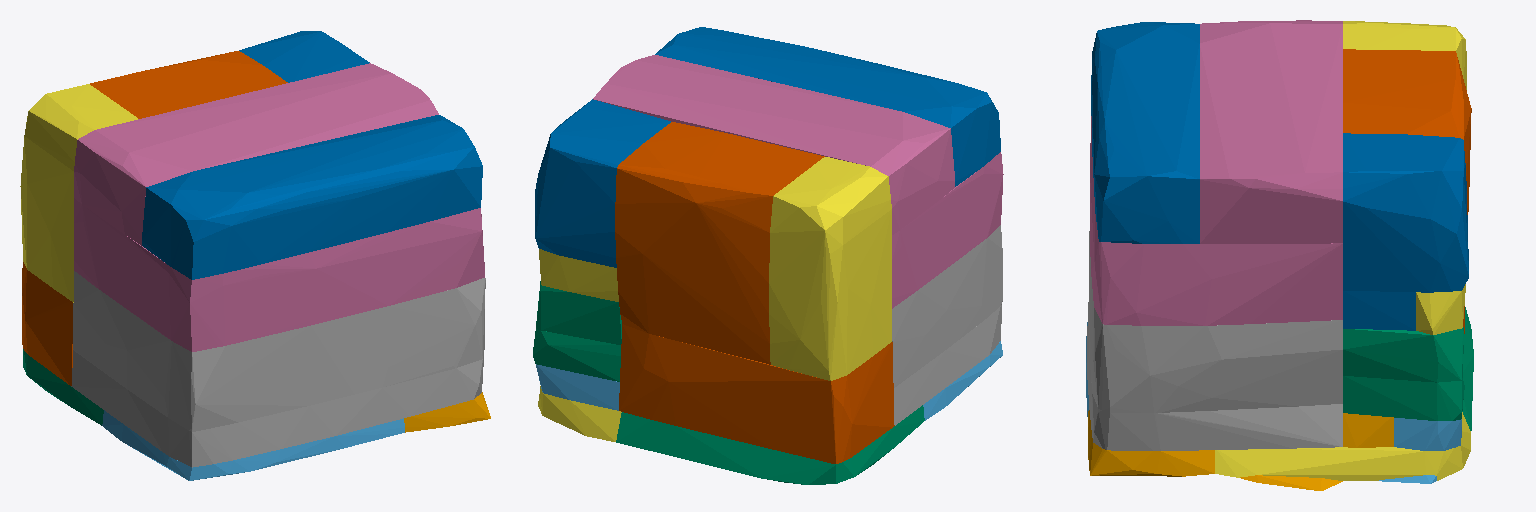
robot.urdf — root:
<?xml version='1.0' encoding='UTF-8'?>
<robot name="root">
  <link name="link_convex_piece_000.obj">
    <inertial>
      <origin xyz="0 0 0" rpy="0 0 0"/>
    </inertial>
    <visual>
      <origin xyz="0 0 0" rpy="0 0 0"/>
      <geometry>
        <mesh filename="meshes/convex_piece_000.obj" scale="1.0 1.0 1.0"/>
      </geometry>
    </visual>
    <collision>
      <origin xyz="0 0 0" rpy="0 0 0"/>
      <geometry>
        <mesh filename="meshes/convex_piece_000.obj" scale="1.0 1.0 1.0"/>
      </geometry>
    </collision>
  </link>
  <link name="link_convex_piece_001.obj">
    <inertial>
      <origin xyz="0 0 0" rpy="0 0 0"/>
    </inertial>
    <visual>
      <origin xyz="0 0 0" rpy="0 0 0"/>
      <geometry>
        <mesh filename="meshes/convex_piece_001.obj" scale="1.0 1.0 1.0"/>
      </geometry>
    </visual>
    <collision>
      <origin xyz="0 0 0" rpy="0 0 0"/>
      <geometry>
        <mesh filename="meshes/convex_piece_001.obj" scale="1.0 1.0 1.0"/>
      </geometry>
    </collision>
  </link>
  <link name="link_convex_piece_002.obj">
    <inertial>
      <origin xyz="0 0 0" rpy="0 0 0"/>
    </inertial>
    <visual>
      <origin xyz="0 0 0" rpy="0 0 0"/>
      <geometry>
        <mesh filename="meshes/convex_piece_002.obj" scale="1.0 1.0 1.0"/>
      </geometry>
    </visual>
    <collision>
      <origin xyz="0 0 0" rpy="0 0 0"/>
      <geometry>
        <mesh filename="meshes/convex_piece_002.obj" scale="1.0 1.0 1.0"/>
      </geometry>
    </collision>
  </link>
  <link name="link_convex_piece_003.obj">
    <inertial>
      <origin xyz="0 0 0" rpy="0 0 0"/>
    </inertial>
    <visual>
      <origin xyz="0 0 0" rpy="0 0 0"/>
      <geometry>
        <mesh filename="meshes/convex_piece_003.obj" scale="1.0 1.0 1.0"/>
      </geometry>
    </visual>
    <collision>
      <origin xyz="0 0 0" rpy="0 0 0"/>
      <geometry>
        <mesh filename="meshes/convex_piece_003.obj" scale="1.0 1.0 1.0"/>
      </geometry>
    </collision>
  </link>
  <link name="link_convex_piece_004.obj">
    <inertial>
      <origin xyz="0 0 0" rpy="0 0 0"/>
    </inertial>
    <visual>
      <origin xyz="0 0 0" rpy="0 0 0"/>
      <geometry>
        <mesh filename="meshes/convex_piece_004.obj" scale="1.0 1.0 1.0"/>
      </geometry>
    </visual>
    <collision>
      <origin xyz="0 0 0" rpy="0 0 0"/>
      <geometry>
        <mesh filename="meshes/convex_piece_004.obj" scale="1.0 1.0 1.0"/>
      </geometry>
    </collision>
  </link>
  <link name="link_convex_piece_005.obj">
    <inertial>
      <origin xyz="0 0 0" rpy="0 0 0"/>
    </inertial>
    <visual>
      <origin xyz="0 0 0" rpy="0 0 0"/>
      <geometry>
        <mesh filename="meshes/convex_piece_005.obj" scale="1.0 1.0 1.0"/>
      </geometry>
    </visual>
    <collision>
      <origin xyz="0 0 0" rpy="0 0 0"/>
      <geometry>
        <mesh filename="meshes/convex_piece_005.obj" scale="1.0 1.0 1.0"/>
      </geometry>
    </collision>
  </link>
  <link name="link_convex_piece_006.obj">
    <inertial>
      <origin xyz="0 0 0" rpy="0 0 0"/>
    </inertial>
    <visual>
      <origin xyz="0 0 0" rpy="0 0 0"/>
      <geometry>
        <mesh filename="meshes/convex_piece_006.obj" scale="1.0 1.0 1.0"/>
      </geometry>
    </visual>
    <collision>
      <origin xyz="0 0 0" rpy="0 0 0"/>
      <geometry>
        <mesh filename="meshes/convex_piece_006.obj" scale="1.0 1.0 1.0"/>
      </geometry>
    </collision>
  </link>
  <link name="link_convex_piece_007.obj">
    <inertial>
      <origin xyz="0 0 0" rpy="0 0 0"/>
    </inertial>
    <visual>
      <origin xyz="0 0 0" rpy="0 0 0"/>
      <geometry>
        <mesh filename="meshes/convex_piece_007.obj" scale="1.0 1.0 1.0"/>
      </geometry>
    </visual>
    <collision>
      <origin xyz="0 0 0" rpy="0 0 0"/>
      <geometry>
        <mesh filename="meshes/convex_piece_007.obj" scale="1.0 1.0 1.0"/>
      </geometry>
    </collision>
  </link>
  <link name="link_convex_piece_008.obj">
    <inertial>
      <origin xyz="0 0 0" rpy="0 0 0"/>
    </inertial>
    <visual>
      <origin xyz="0 0 0" rpy="0 0 0"/>
      <geometry>
        <mesh filename="meshes/convex_piece_008.obj" scale="1.0 1.0 1.0"/>
      </geometry>
    </visual>
    <collision>
      <origin xyz="0 0 0" rpy="0 0 0"/>
      <geometry>
        <mesh filename="meshes/convex_piece_008.obj" scale="1.0 1.0 1.0"/>
      </geometry>
    </collision>
  </link>
  <link name="link_convex_piece_009.obj">
    <inertial>
      <origin xyz="0 0 0" rpy="0 0 0"/>
    </inertial>
    <visual>
      <origin xyz="0 0 0" rpy="0 0 0"/>
      <geometry>
        <mesh filename="meshes/convex_piece_009.obj" scale="1.0 1.0 1.0"/>
      </geometry>
    </visual>
    <collision>
      <origin xyz="0 0 0" rpy="0 0 0"/>
      <geometry>
        <mesh filename="meshes/convex_piece_009.obj" scale="1.0 1.0 1.0"/>
      </geometry>
    </collision>
  </link>
  <link name="link_convex_piece_010.obj">
    <inertial>
      <origin xyz="0 0 0" rpy="0 0 0"/>
    </inertial>
    <visual>
      <origin xyz="0 0 0" rpy="0 0 0"/>
      <geometry>
        <mesh filename="meshes/convex_piece_010.obj" scale="1.0 1.0 1.0"/>
      </geometry>
    </visual>
    <collision>
      <origin xyz="0 0 0" rpy="0 0 0"/>
      <geometry>
        <mesh filename="meshes/convex_piece_010.obj" scale="1.0 1.0 1.0"/>
      </geometry>
    </collision>
  </link>
  <link name="link_convex_piece_011.obj">
    <inertial>
      <origin xyz="0 0 0" rpy="0 0 0"/>
    </inertial>
    <visual>
      <origin xyz="0 0 0" rpy="0 0 0"/>
      <geometry>
        <mesh filename="meshes/convex_piece_011.obj" scale="1.0 1.0 1.0"/>
      </geometry>
    </visual>
    <collision>
      <origin xyz="0 0 0" rpy="0 0 0"/>
      <geometry>
        <mesh filename="meshes/convex_piece_011.obj" scale="1.0 1.0 1.0"/>
      </geometry>
    </collision>
  </link>
  <link name="link_convex_piece_012.obj">
    <inertial>
      <origin xyz="0 0 0" rpy="0 0 0"/>
    </inertial>
    <visual>
      <origin xyz="0 0 0" rpy="0 0 0"/>
      <geometry>
        <mesh filename="meshes/convex_piece_012.obj" scale="1.0 1.0 1.0"/>
      </geometry>
    </visual>
    <collision>
      <origin xyz="0 0 0" rpy="0 0 0"/>
      <geometry>
        <mesh filename="meshes/convex_piece_012.obj" scale="1.0 1.0 1.0"/>
      </geometry>
    </collision>
  </link>
  <link name="link_convex_piece_013.obj">
    <inertial>
      <origin xyz="0 0 0" rpy="0 0 0"/>
    </inertial>
    <visual>
      <origin xyz="0 0 0" rpy="0 0 0"/>
      <geometry>
        <mesh filename="meshes/convex_piece_013.obj" scale="1.0 1.0 1.0"/>
      </geometry>
    </visual>
    <collision>
      <origin xyz="0 0 0" rpy="0 0 0"/>
      <geometry>
        <mesh filename="meshes/convex_piece_013.obj" scale="1.0 1.0 1.0"/>
      </geometry>
    </collision>
  </link>
  <link name="link_convex_piece_014.obj">
    <inertial>
      <origin xyz="0 0 0" rpy="0 0 0"/>
    </inertial>
    <visual>
      <origin xyz="0 0 0" rpy="0 0 0"/>
      <geometry>
        <mesh filename="meshes/convex_piece_014.obj" scale="1.0 1.0 1.0"/>
      </geometry>
    </visual>
    <collision>
      <origin xyz="0 0 0" rpy="0 0 0"/>
      <geometry>
        <mesh filename="meshes/convex_piece_014.obj" scale="1.0 1.0 1.0"/>
      </geometry>
    </collision>
  </link>
  <link name="link_convex_piece_015.obj">
    <inertial>
      <origin xyz="0 0 0" rpy="0 0 0"/>
    </inertial>
    <visual>
      <origin xyz="0 0 0" rpy="0 0 0"/>
      <geometry>
        <mesh filename="meshes/convex_piece_015.obj" scale="1.0 1.0 1.0"/>
      </geometry>
    </visual>
    <collision>
      <origin xyz="0 0 0" rpy="0 0 0"/>
      <geometry>
        <mesh filename="meshes/convex_piece_015.obj" scale="1.0 1.0 1.0"/>
      </geometry>
    </collision>
  </link>
  <link name="link_convex_piece_016.obj">
    <inertial>
      <origin xyz="0 0 0" rpy="0 0 0"/>
    </inertial>
    <visual>
      <origin xyz="0 0 0" rpy="0 0 0"/>
      <geometry>
        <mesh filename="meshes/convex_piece_016.obj" scale="1.0 1.0 1.0"/>
      </geometry>
    </visual>
    <collision>
      <origin xyz="0 0 0" rpy="0 0 0"/>
      <geometry>
        <mesh filename="meshes/convex_piece_016.obj" scale="1.0 1.0 1.0"/>
      </geometry>
    </collision>
  </link>
  <link name="link_convex_piece_017.obj">
    <inertial>
      <origin xyz="0 0 0" rpy="0 0 0"/>
    </inertial>
    <visual>
      <origin xyz="0 0 0" rpy="0 0 0"/>
      <geometry>
        <mesh filename="meshes/convex_piece_017.obj" scale="1.0 1.0 1.0"/>
      </geometry>
    </visual>
    <collision>
      <origin xyz="0 0 0" rpy="0 0 0"/>
      <geometry>
        <mesh filename="meshes/convex_piece_017.obj" scale="1.0 1.0 1.0"/>
      </geometry>
    </collision>
  </link>
  <link name="link_convex_piece_018.obj">
    <inertial>
      <origin xyz="0 0 0" rpy="0 0 0"/>
    </inertial>
    <visual>
      <origin xyz="0 0 0" rpy="0 0 0"/>
      <geometry>
        <mesh filename="meshes/convex_piece_018.obj" scale="1.0 1.0 1.0"/>
      </geometry>
    </visual>
    <collision>
      <origin xyz="0 0 0" rpy="0 0 0"/>
      <geometry>
        <mesh filename="meshes/convex_piece_018.obj" scale="1.0 1.0 1.0"/>
      </geometry>
    </collision>
  </link>
  <link name="link_convex_piece_019.obj">
    <inertial>
      <origin xyz="0 0 0" rpy="0 0 0"/>
    </inertial>
    <visual>
      <origin xyz="0 0 0" rpy="0 0 0"/>
      <geometry>
        <mesh filename="meshes/convex_piece_019.obj" scale="1.0 1.0 1.0"/>
      </geometry>
    </visual>
    <collision>
      <origin xyz="0 0 0" rpy="0 0 0"/>
      <geometry>
        <mesh filename="meshes/convex_piece_019.obj" scale="1.0 1.0 1.0"/>
      </geometry>
    </collision>
  </link>
  <link name="link_convex_piece_020.obj">
    <inertial>
      <origin xyz="0 0 0" rpy="0 0 0"/>
    </inertial>
    <visual>
      <origin xyz="0 0 0" rpy="0 0 0"/>
      <geometry>
        <mesh filename="meshes/convex_piece_020.obj" scale="1.0 1.0 1.0"/>
      </geometry>
    </visual>
    <collision>
      <origin xyz="0 0 0" rpy="0 0 0"/>
      <geometry>
        <mesh filename="meshes/convex_piece_020.obj" scale="1.0 1.0 1.0"/>
      </geometry>
    </collision>
  </link>
  <joint name="link_convex_piece_001.obj_joint" type="fixed">
    <origin xyz="0 0 0" rpy="0 0 0"/>
    <parent link="link_convex_piece_000.obj"/>
    <child link="link_convex_piece_001.obj"/>
  </joint>
  <joint name="link_convex_piece_002.obj_joint" type="fixed">
    <origin xyz="0 0 0" rpy="0 0 0"/>
    <parent link="link_convex_piece_000.obj"/>
    <child link="link_convex_piece_002.obj"/>
  </joint>
  <joint name="link_convex_piece_003.obj_joint" type="fixed">
    <origin xyz="0 0 0" rpy="0 0 0"/>
    <parent link="link_convex_piece_000.obj"/>
    <child link="link_convex_piece_003.obj"/>
  </joint>
  <joint name="link_convex_piece_004.obj_joint" type="fixed">
    <origin xyz="0 0 0" rpy="0 0 0"/>
    <parent link="link_convex_piece_000.obj"/>
    <child link="link_convex_piece_004.obj"/>
  </joint>
  <joint name="link_convex_piece_005.obj_joint" type="fixed">
    <origin xyz="0 0 0" rpy="0 0 0"/>
    <parent link="link_convex_piece_000.obj"/>
    <child link="link_convex_piece_005.obj"/>
  </joint>
  <joint name="link_convex_piece_006.obj_joint" type="fixed">
    <origin xyz="0 0 0" rpy="0 0 0"/>
    <parent link="link_convex_piece_000.obj"/>
    <child link="link_convex_piece_006.obj"/>
  </joint>
  <joint name="link_convex_piece_007.obj_joint" type="fixed">
    <origin xyz="0 0 0" rpy="0 0 0"/>
    <parent link="link_convex_piece_000.obj"/>
    <child link="link_convex_piece_007.obj"/>
  </joint>
  <joint name="link_convex_piece_008.obj_joint" type="fixed">
    <origin xyz="0 0 0" rpy="0 0 0"/>
    <parent link="link_convex_piece_000.obj"/>
    <child link="link_convex_piece_008.obj"/>
  </joint>
  <joint name="link_convex_piece_009.obj_joint" type="fixed">
    <origin xyz="0 0 0" rpy="0 0 0"/>
    <parent link="link_convex_piece_000.obj"/>
    <child link="link_convex_piece_009.obj"/>
  </joint>
  <joint name="link_convex_piece_010.obj_joint" type="fixed">
    <origin xyz="0 0 0" rpy="0 0 0"/>
    <parent link="link_convex_piece_000.obj"/>
    <child link="link_convex_piece_010.obj"/>
  </joint>
  <joint name="link_convex_piece_011.obj_joint" type="fixed">
    <origin xyz="0 0 0" rpy="0 0 0"/>
    <parent link="link_convex_piece_000.obj"/>
    <child link="link_convex_piece_011.obj"/>
  </joint>
  <joint name="link_convex_piece_012.obj_joint" type="fixed">
    <origin xyz="0 0 0" rpy="0 0 0"/>
    <parent link="link_convex_piece_000.obj"/>
    <child link="link_convex_piece_012.obj"/>
  </joint>
  <joint name="link_convex_piece_013.obj_joint" type="fixed">
    <origin xyz="0 0 0" rpy="0 0 0"/>
    <parent link="link_convex_piece_000.obj"/>
    <child link="link_convex_piece_013.obj"/>
  </joint>
  <joint name="link_convex_piece_014.obj_joint" type="fixed">
    <origin xyz="0 0 0" rpy="0 0 0"/>
    <parent link="link_convex_piece_000.obj"/>
    <child link="link_convex_piece_014.obj"/>
  </joint>
  <joint name="link_convex_piece_015.obj_joint" type="fixed">
    <origin xyz="0 0 0" rpy="0 0 0"/>
    <parent link="link_convex_piece_000.obj"/>
    <child link="link_convex_piece_015.obj"/>
  </joint>
  <joint name="link_convex_piece_016.obj_joint" type="fixed">
    <origin xyz="0 0 0" rpy="0 0 0"/>
    <parent link="link_convex_piece_000.obj"/>
    <child link="link_convex_piece_016.obj"/>
  </joint>
  <joint name="link_convex_piece_017.obj_joint" type="fixed">
    <origin xyz="0 0 0" rpy="0 0 0"/>
    <parent link="link_convex_piece_000.obj"/>
    <child link="link_convex_piece_017.obj"/>
  </joint>
  <joint name="link_convex_piece_018.obj_joint" type="fixed">
    <origin xyz="0 0 0" rpy="0 0 0"/>
    <parent link="link_convex_piece_000.obj"/>
    <child link="link_convex_piece_018.obj"/>
  </joint>
  <joint name="link_convex_piece_019.obj_joint" type="fixed">
    <origin xyz="0 0 0" rpy="0 0 0"/>
    <parent link="link_convex_piece_000.obj"/>
    <child link="link_convex_piece_019.obj"/>
  </joint>
  <joint name="link_convex_piece_020.obj_joint" type="fixed">
    <origin xyz="0 0 0" rpy="0 0 0"/>
    <parent link="link_convex_piece_000.obj"/>
    <child link="link_convex_piece_020.obj"/>
  </joint>
</robot>

--- Facts derived from the render (not from the file) ---
Views: 3 orthographic renders of the robot side by side, from view 1: azimuth 30°, elevation 25°; view 2: azimuth 150°, elevation 25°; view 3: azimuth 270°, elevation 25°.
Model root with 21 links and 20 joints (20 fixed), rooted at link_convex_piece_000.obj, posed every joint at zero.
Links seen in each view (by area): view 1: link_convex_piece_004.obj, link_convex_piece_015.obj, link_convex_piece_014.obj, link_convex_piece_006.obj, link_convex_piece_007.obj, link_convex_piece_011.obj, link_convex_piece_013.obj, link_convex_piece_001.obj, link_convex_piece_005.obj, link_convex_piece_012.obj, link_convex_piece_002.obj, link_convex_piece_000.obj; view 2: link_convex_piece_013.obj, link_convex_piece_011.obj, link_convex_piece_005.obj, link_convex_piece_006.obj, link_convex_piece_004.obj, link_convex_piece_012.obj, link_convex_piece_015.obj, link_convex_piece_002.obj, link_convex_piece_014.obj, link_convex_piece_007.obj, link_convex_piece_018.obj, link_convex_piece_010.obj (+4 smaller); view 3: link_convex_piece_006.obj, link_convex_piece_004.obj, link_convex_piece_015.obj, link_convex_piece_014.obj, link_convex_piece_012.obj, link_convex_piece_013.obj, link_convex_piece_007.obj, link_convex_piece_003.obj, link_convex_piece_018.obj, link_convex_piece_010.obj, link_convex_piece_011.obj, link_convex_piece_000.obj (+6 smaller).
Boxes of the visible links, <box> form: link_convex_piece_004.obj: <box>142,115,482,279</box>; link_convex_piece_015.obj: <box>73,271,485,431</box>; link_convex_piece_014.obj: <box>74,198,484,351</box>; link_convex_piece_006.obj: <box>74,63,438,245</box>; link_convex_piece_007.obj: <box>71,350,483,467</box>; link_convex_piece_011.obj: <box>20,84,137,302</box>; link_convex_piece_013.obj: <box>90,51,287,118</box>; link_convex_piece_001.obj: <box>102,410,404,480</box>; link_convex_piece_005.obj: <box>22,262,72,385</box>; link_convex_piece_012.obj: <box>239,31,369,82</box>; link_convex_piece_002.obj: <box>23,349,103,425</box>; link_convex_piece_000.obj: <box>404,392,490,432</box>; link_convex_piece_013.obj: <box>615,122,824,364</box>; link_convex_piece_011.obj: <box>769,157,891,380</box>; link_convex_piece_005.obj: <box>619,324,894,463</box>; link_convex_piece_006.obj: <box>593,55,954,234</box>; link_convex_piece_004.obj: <box>655,27,1000,186</box>; link_convex_piece_012.obj: <box>535,99,670,267</box>; link_convex_piece_015.obj: <box>892,225,1002,387</box>; link_convex_piece_002.obj: <box>616,405,924,484</box>; link_convex_piece_014.obj: <box>892,152,1003,308</box>; link_convex_piece_007.obj: <box>894,305,1001,425</box>; link_convex_piece_018.obj: <box>536,281,621,344</box>; link_convex_piece_010.obj: <box>533,329,620,381</box>; link_convex_piece_006.obj: <box>1200,20,1342,243</box>; link_convex_piece_004.obj: <box>1091,22,1199,243</box>; link_convex_piece_015.obj: <box>1088,231,1342,412</box>; link_convex_piece_014.obj: <box>1090,116,1342,325</box>; link_convex_piece_012.obj: <box>1343,133,1468,292</box>; link_convex_piece_013.obj: <box>1343,49,1471,214</box>; link_convex_piece_007.obj: <box>1087,302,1342,450</box>; link_convex_piece_003.obj: <box>1215,412,1470,480</box>; link_convex_piece_018.obj: <box>1343,327,1463,382</box>; link_convex_piece_010.obj: <box>1343,376,1464,420</box>; link_convex_piece_011.obj: <box>1343,21,1466,89</box>; link_convex_piece_000.obj: <box>1088,410,1214,476</box>.
Bounding box of the posed robot: 0.0836 × 0.0793 × 0.0698 m (x, y, z).
21 mesh visuals loaded from 21 distinct referenced files (21 OBJ).
